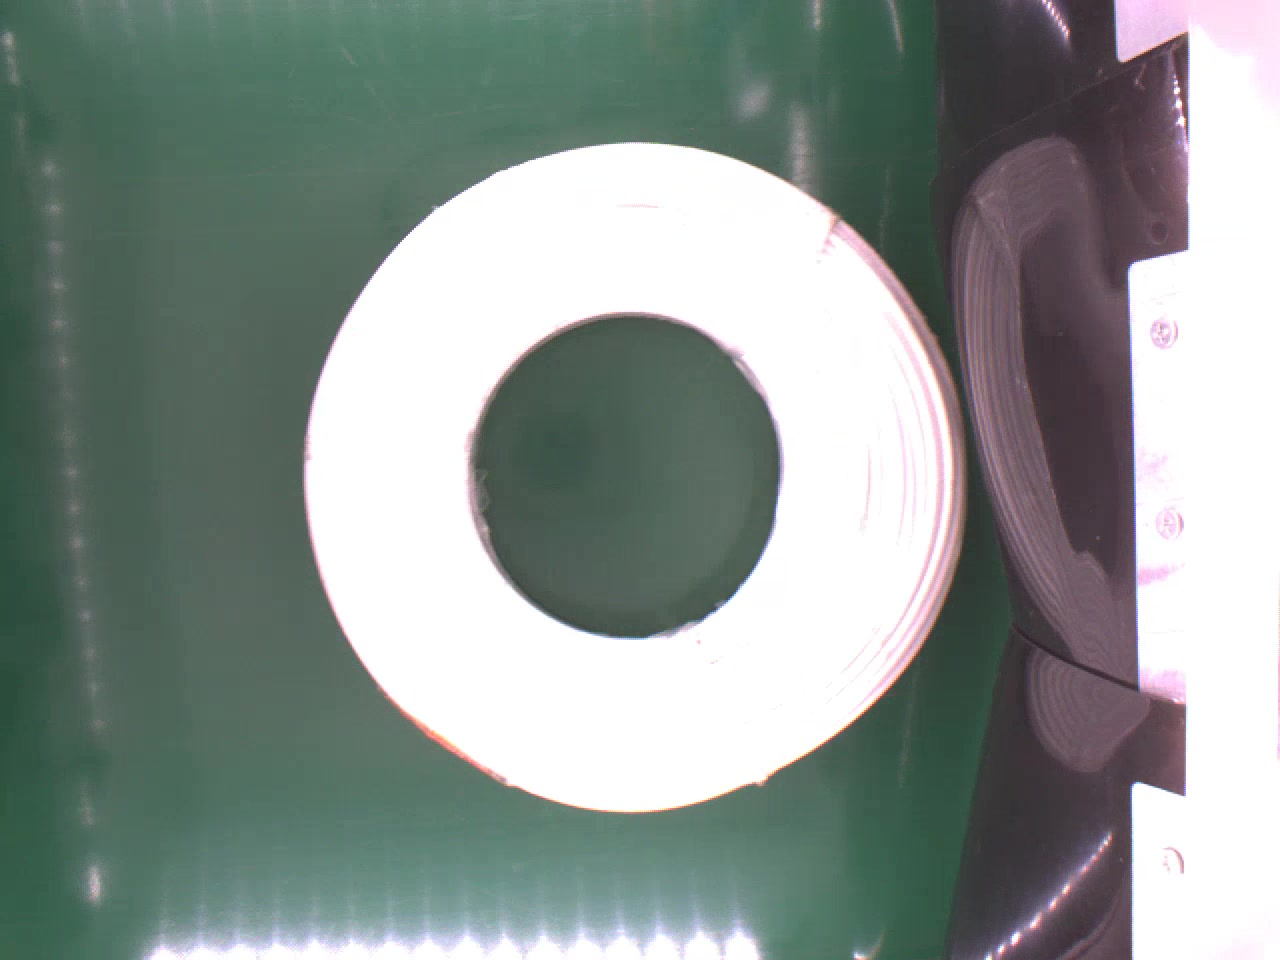white: (303, 142, 983, 830)
